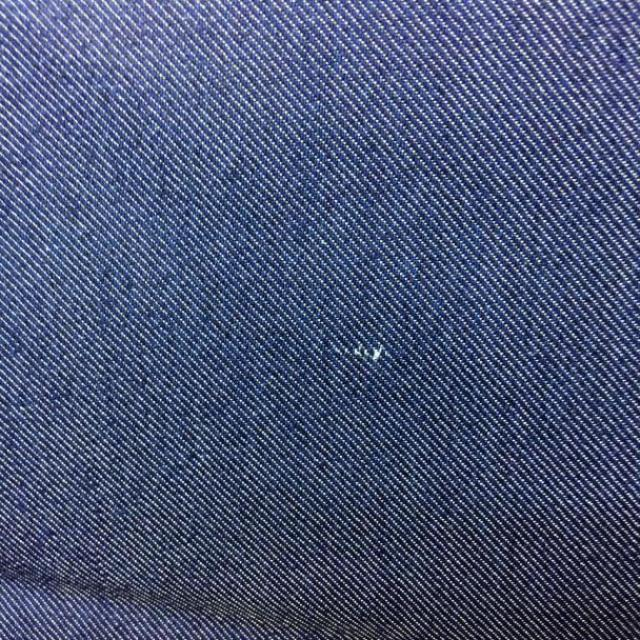Knot: (340, 343, 391, 364)
